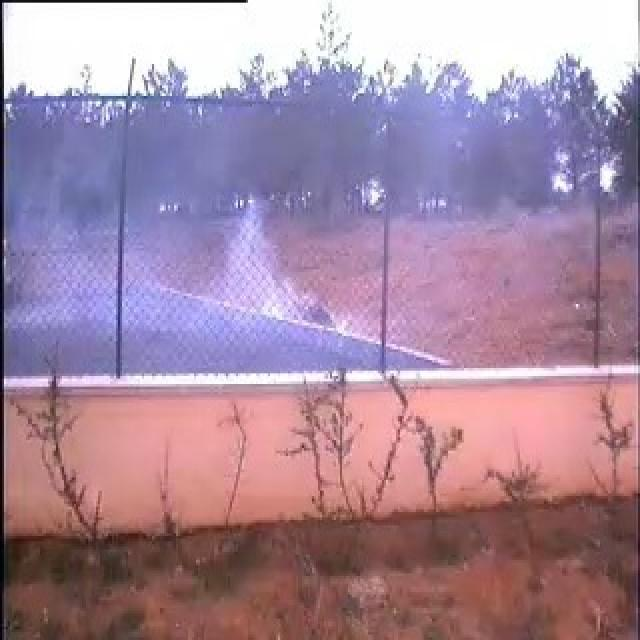Smoke: (118, 106, 394, 370)
